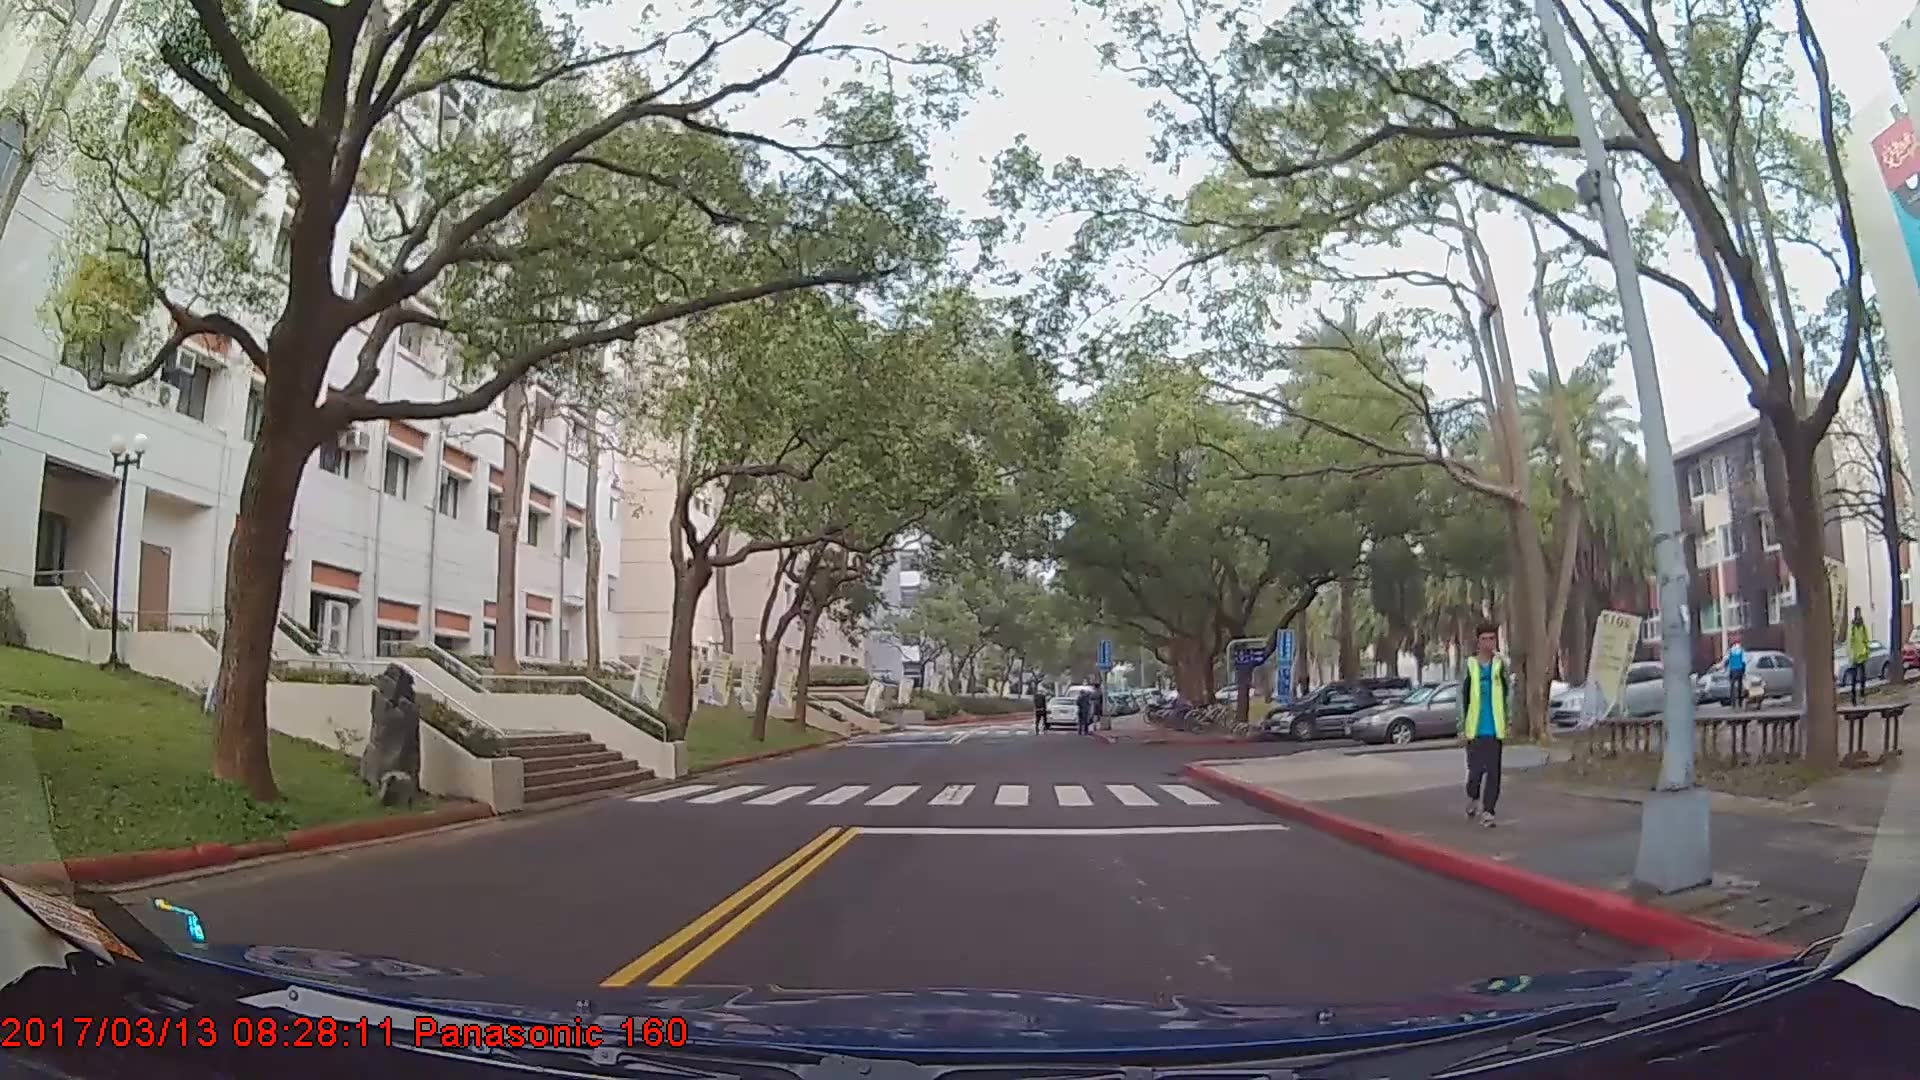pedestrian: (1448, 618, 1516, 824), (1844, 606, 1875, 712), (1724, 623, 1754, 715), (1033, 687, 1053, 736), (1074, 689, 1094, 735)
vehicle: (1346, 679, 1534, 746), (1550, 660, 1701, 729), (1262, 678, 1418, 738), (1703, 646, 1808, 705), (1042, 694, 1084, 732)
